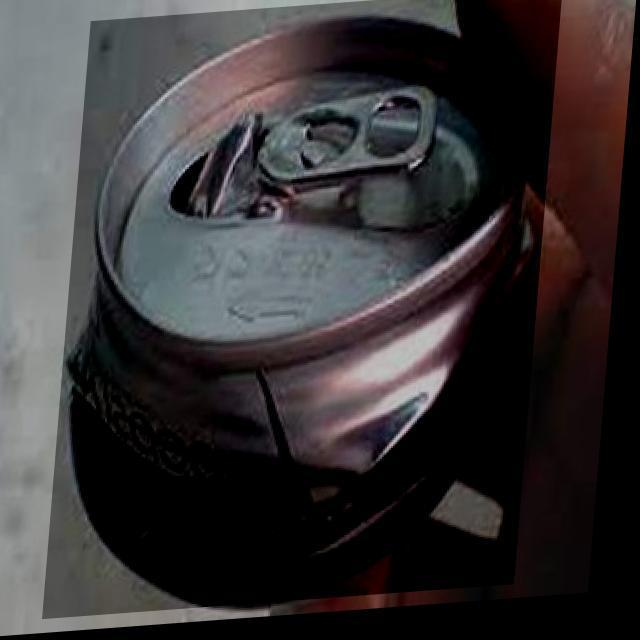trash: (52, 0, 563, 620)
